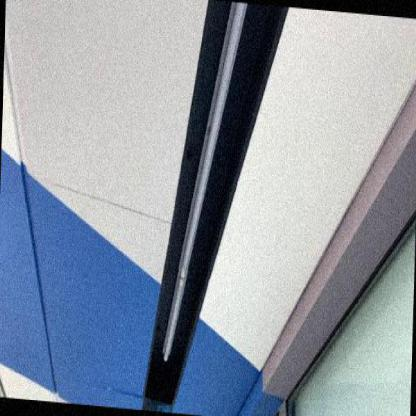light_off: (150, 0, 253, 375)
